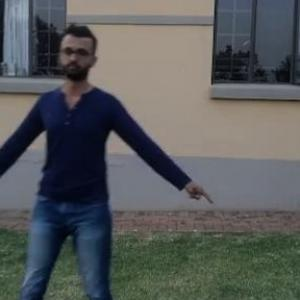land: (1, 39, 204, 299)
